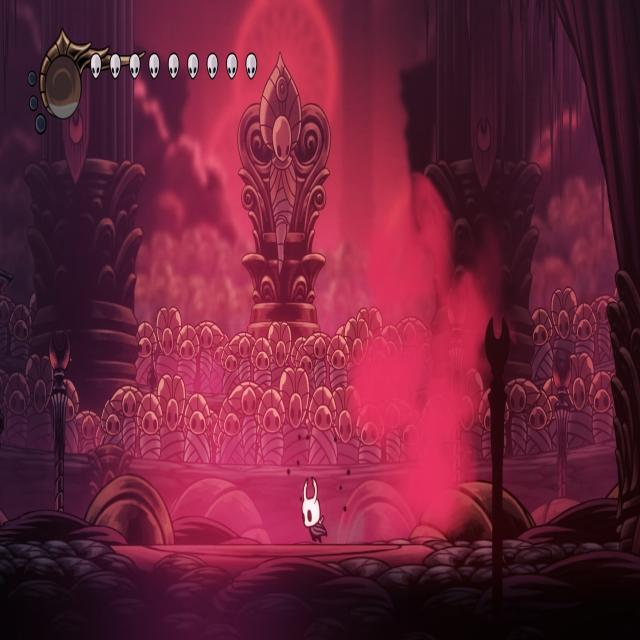Player: (300, 472, 330, 548)
